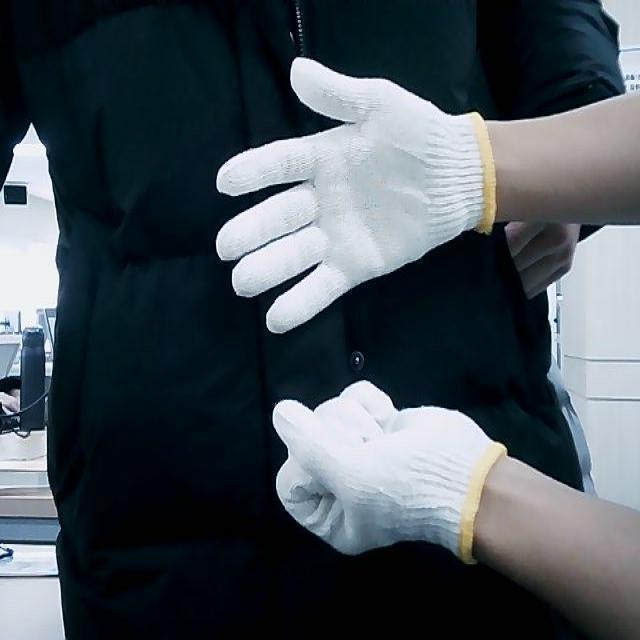gloves: (214, 55, 498, 336), (270, 378, 508, 562)
